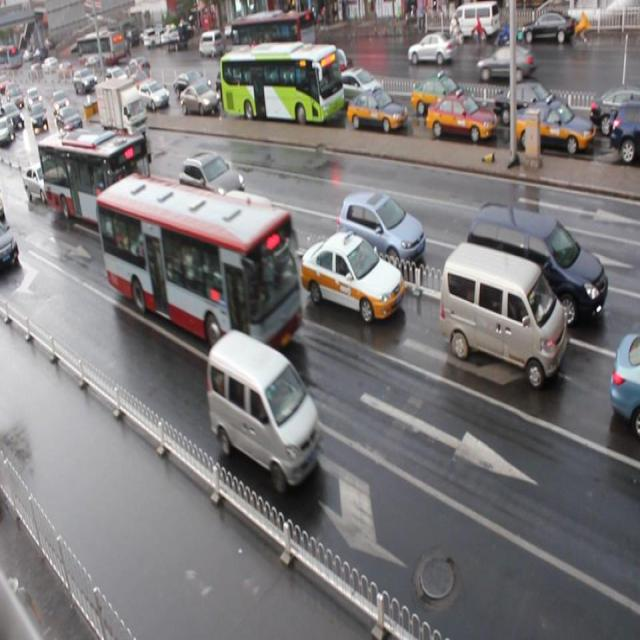bus: (96, 77, 148, 145)
car: (299, 228, 402, 322), (336, 190, 424, 272), (514, 99, 594, 159), (178, 148, 247, 215), (138, 187, 206, 252), (425, 92, 497, 144), (495, 82, 570, 128), (608, 331, 640, 435), (345, 87, 406, 133), (408, 74, 470, 119), (587, 90, 640, 136), (332, 64, 387, 108), (609, 99, 640, 161), (22, 158, 60, 203), (180, 81, 220, 115), (215, 69, 247, 104), (173, 71, 210, 97), (138, 81, 170, 109), (57, 106, 84, 138), (106, 81, 131, 110), (129, 71, 155, 94)
truck: (207, 328, 322, 496), (438, 240, 566, 388), (466, 200, 606, 331), (214, 187, 289, 281)
van: (95, 174, 304, 366), (37, 126, 154, 235), (216, 42, 339, 125)
